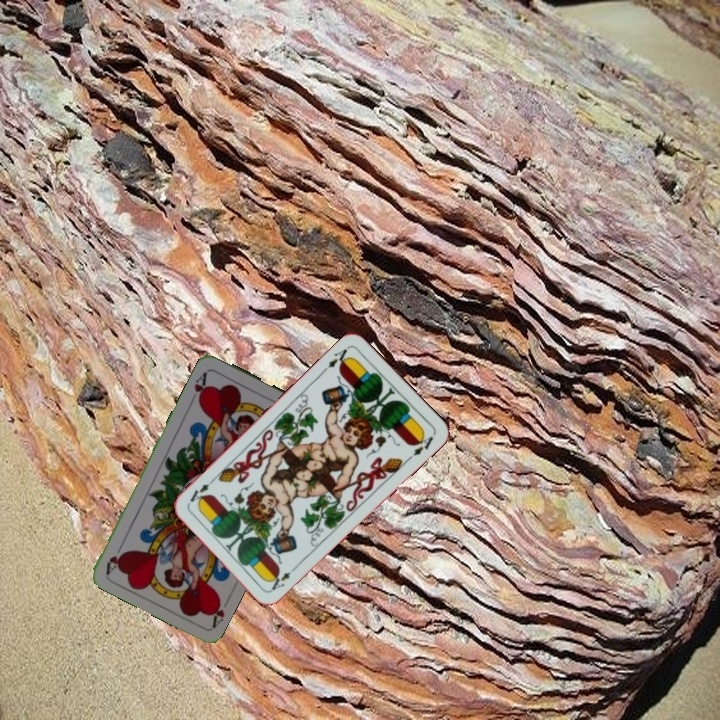EA: (267, 562, 300, 593), (319, 345, 353, 375)
HA: (206, 591, 233, 629), (190, 368, 210, 405)
